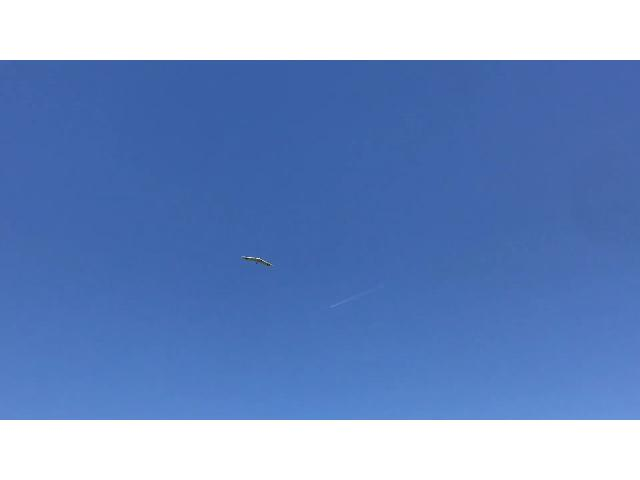Anti-Drone: (227, 243, 280, 275)
